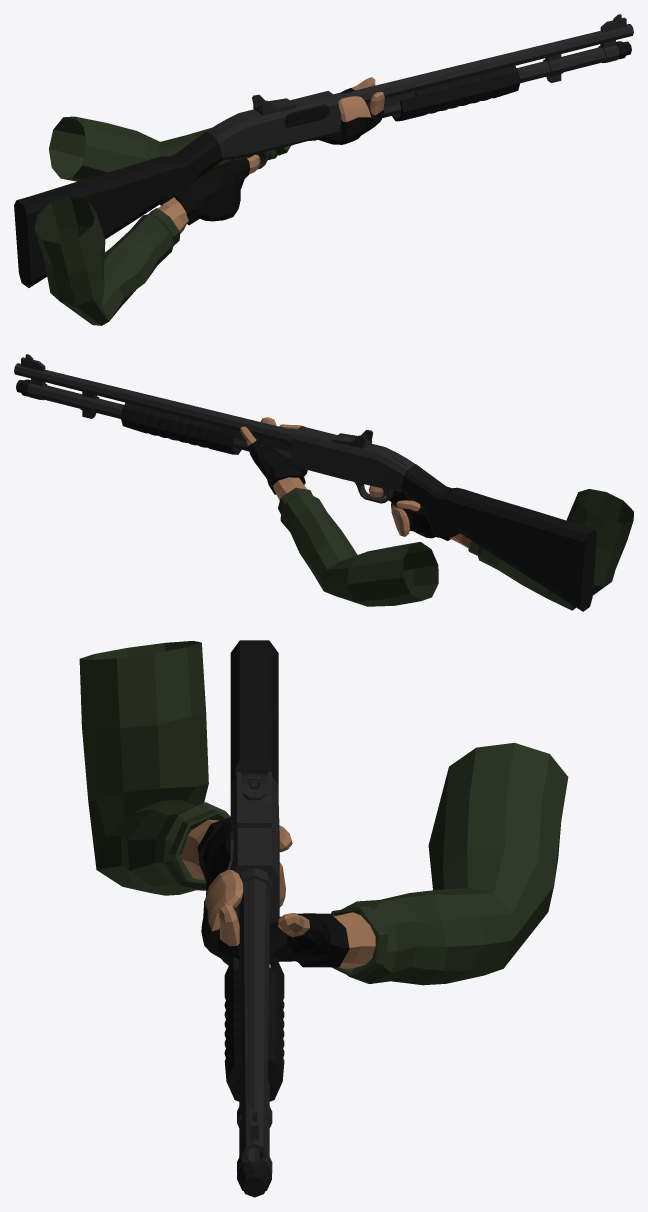
File: armaescopeta.obj
3 renders of one model, top to bottom at view 1: azimuth 30°, elevation 25°; view 2: azimuth 150°, elevation 25°; view 3: azimuth 270°, elevation 25°, orthographic. The views are drawn at different scales.
Parts seen in each view (by area): view 1: Mossberg590A1, ArmModel; view 2: Mossberg590A1, ArmModel; view 3: ArmModel, Mossberg590A1.
Boxes of the visible parts, left/top/right/bottom form: Mossberg590A1: left=14, top=14, right=633, bottom=287; ArmModel: left=34, top=77, right=384, bottom=325; Mossberg590A1: left=14, top=354, right=596, bottom=611; ArmModel: left=240, top=417, right=633, bottom=610; ArmModel: left=79, top=641, right=568, bottom=985; Mossberg590A1: left=224, top=640, right=284, bottom=1197.
Bounding box in the file's own units: 25.03 × 6.11 × 9.06.
